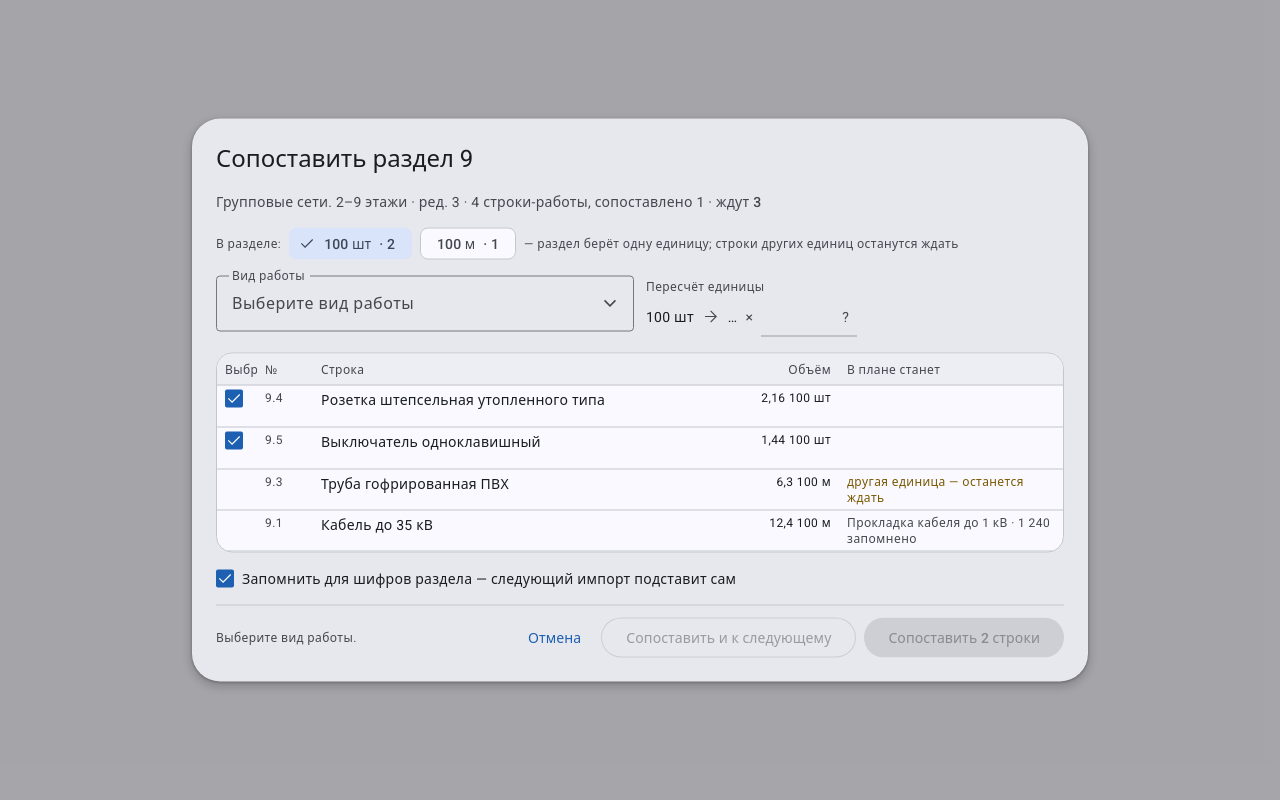
Test: сопоставление раздела ЛСР › 409: причина словами сервера, окно открыто, выбор цел
This screenshot has width=1280, height=800.
Press Enter in the dropdown labelled "вид работы", box [216, 276, 634, 332]
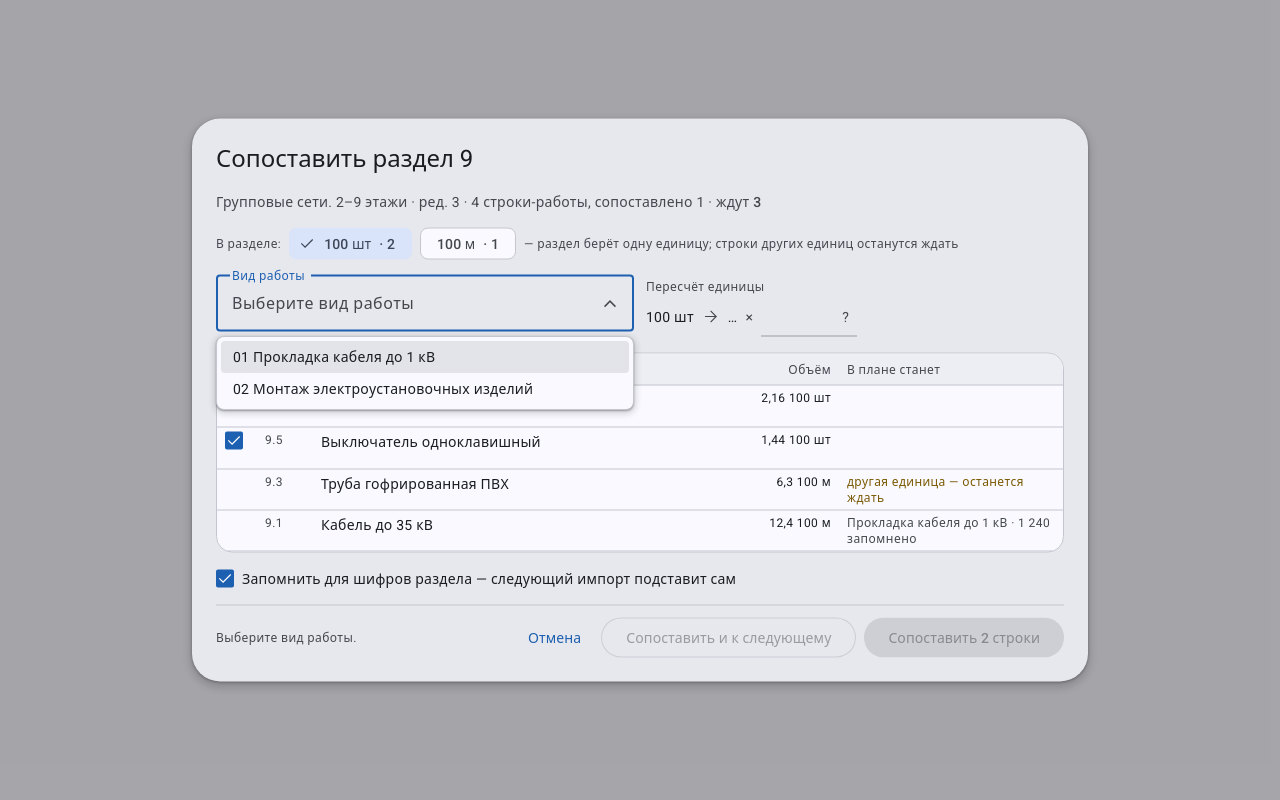
Click the option "02 Монтаж электроустановочных изделий".
click(425, 389)  # box [221, 373, 629, 405]
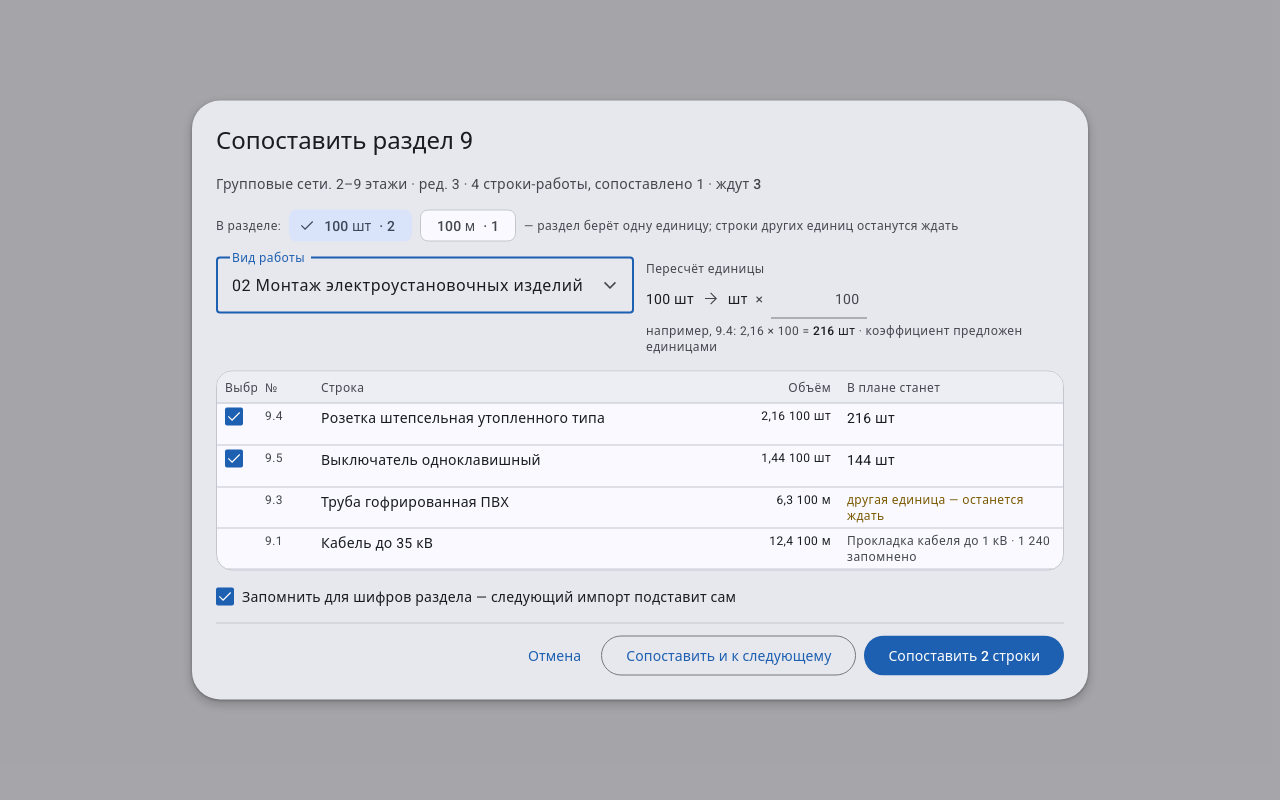
Expected: the text "коэффициент предложен единицами" is shown, [646, 324, 1022, 354]
Click the button "Сопоставить 2 строки".
click(964, 656)  # box [864, 636, 1064, 676]
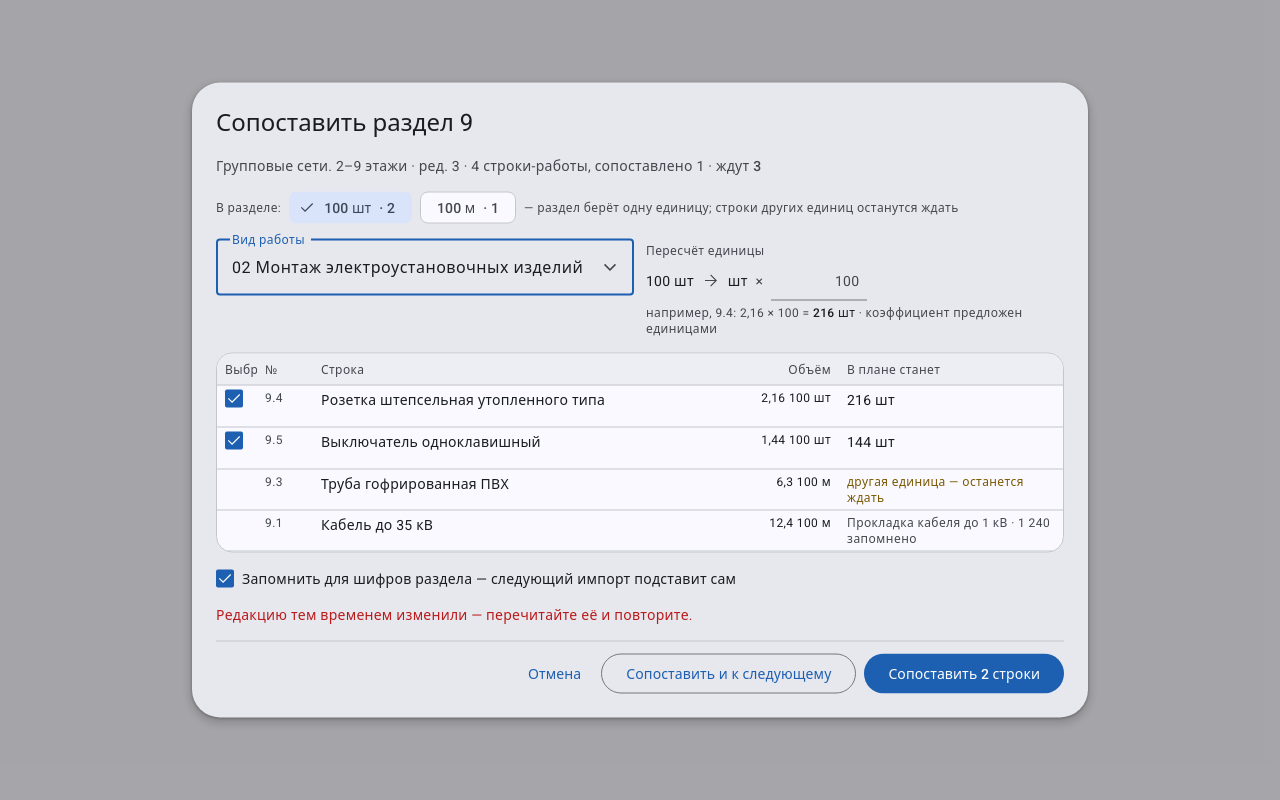
Expected: the dropdown named "Вид работы" shows "Монтаж электроустановочных изделий", [216, 240, 634, 296]
Expected: the button "Сопоставить 2 строки" is enabled, [864, 654, 1064, 694]
Expected: the message shows "тем временем изменили — перечитайте", [216, 606, 693, 622]
